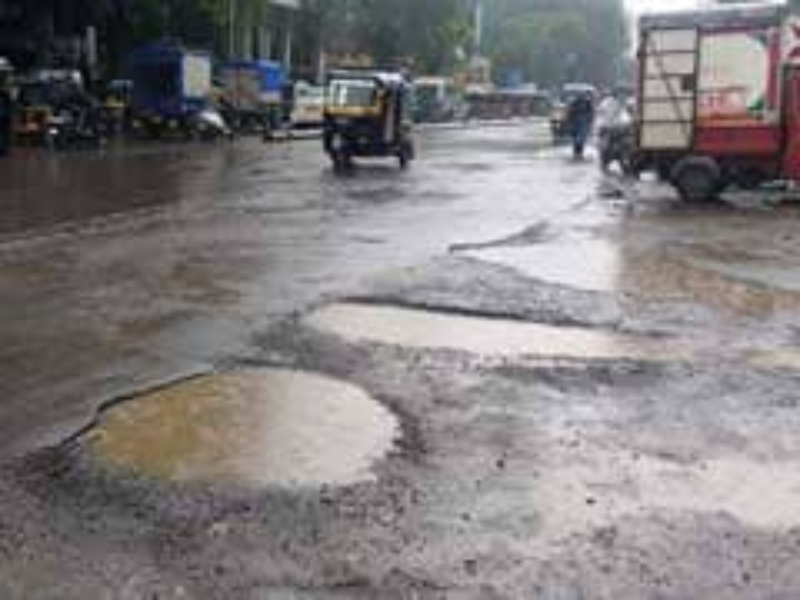pothole: (60, 357, 413, 506), (287, 291, 693, 369), (446, 238, 800, 326)
